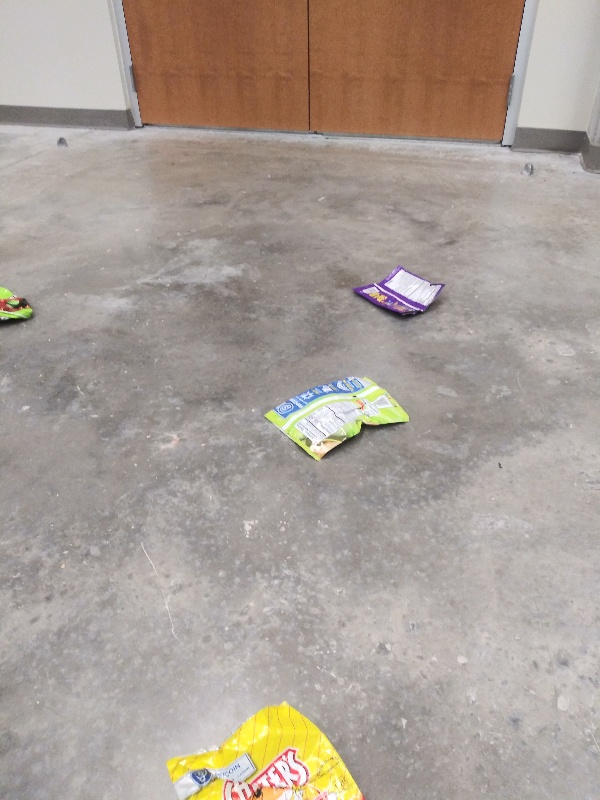bag: (160, 694, 371, 800), (259, 373, 413, 462), (348, 262, 452, 323), (1, 276, 38, 329)
